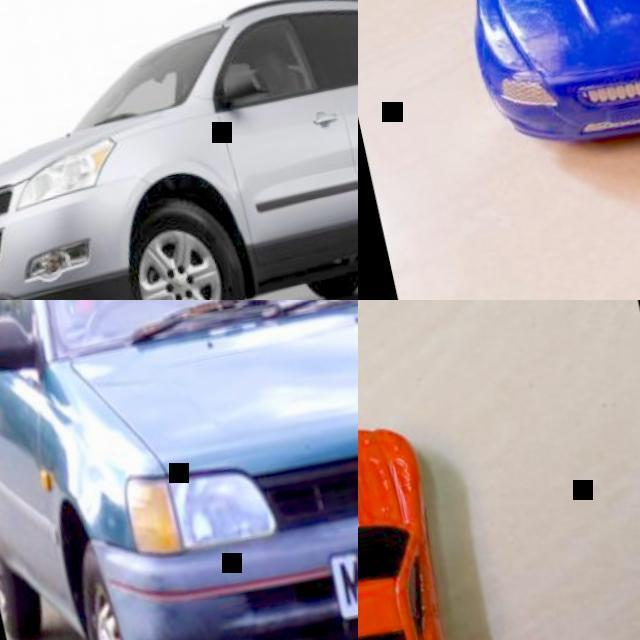car: (2, 0, 357, 303)
